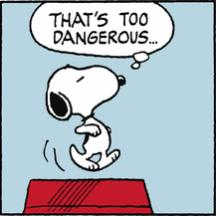snoopy: (45, 62, 127, 172)
